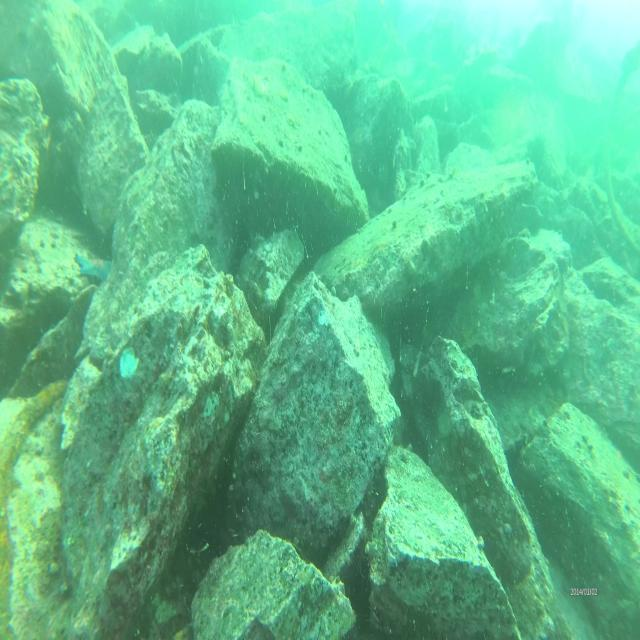scallop: (118, 348, 141, 382)
starfish: (72, 248, 115, 288)
